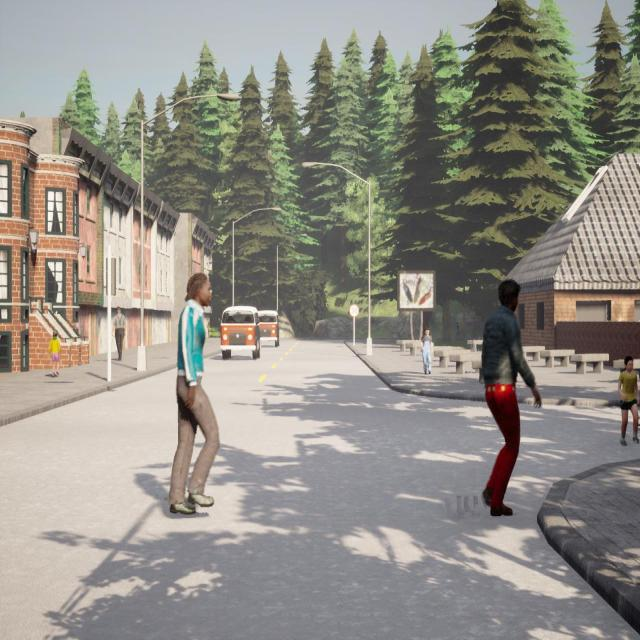Pedestrian: (482, 279, 541, 516), (169, 273, 219, 514), (620, 356, 640, 450), (112, 305, 126, 361), (420, 326, 434, 375), (49, 329, 62, 376)
Traffic_Signs: (350, 305, 359, 317)
Vehicle: (220, 306, 260, 360), (258, 310, 280, 347)
traffic_light: (106, 258, 116, 296)
